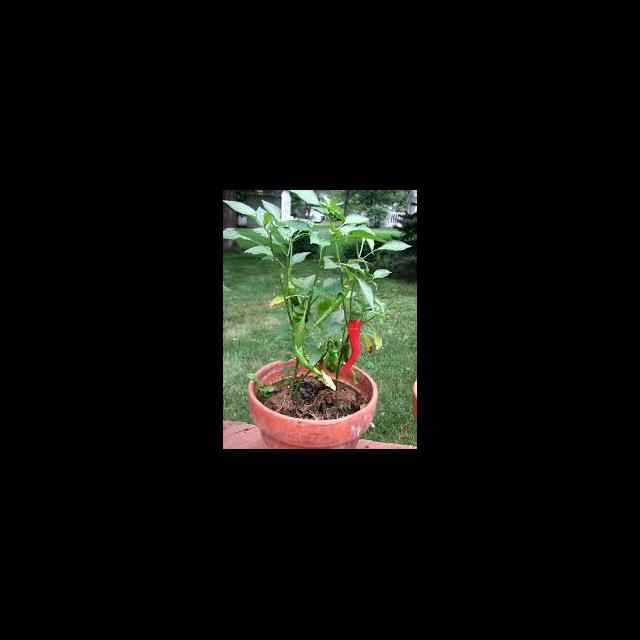chili_pepper: (295, 322, 322, 375), (313, 291, 348, 328), (342, 320, 362, 376)
